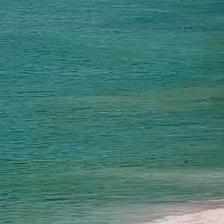surfer: (190, 25, 194, 30), (184, 26, 188, 31), (184, 159, 188, 164), (169, 28, 173, 32)
